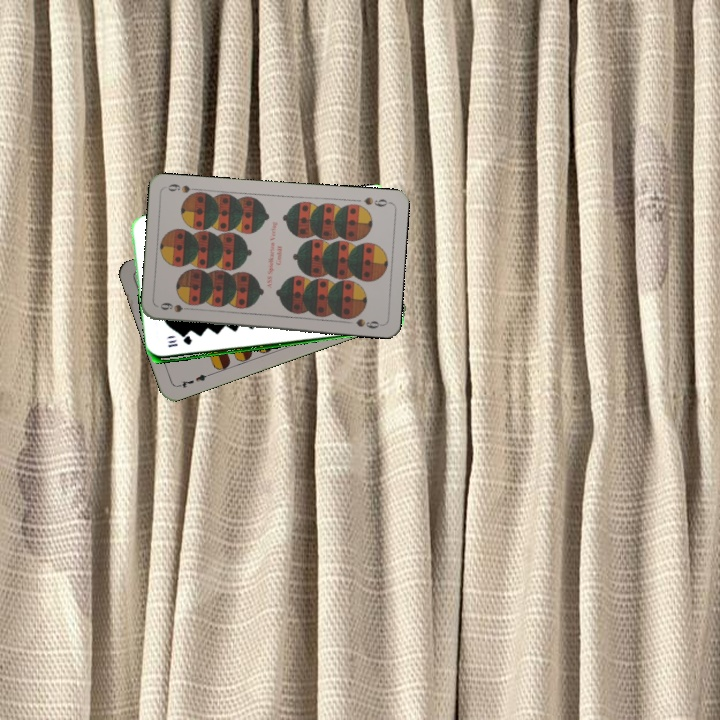E7: (174, 370, 213, 390)
G10: (164, 334, 194, 350)
S9: (156, 299, 196, 315), (360, 193, 392, 209)
